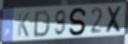2: (90, 6, 104, 35)
9: (53, 9, 67, 37)
D: (32, 9, 52, 38)
K: (17, 12, 31, 38)
S: (68, 7, 89, 37)
X: (105, 5, 124, 34)
